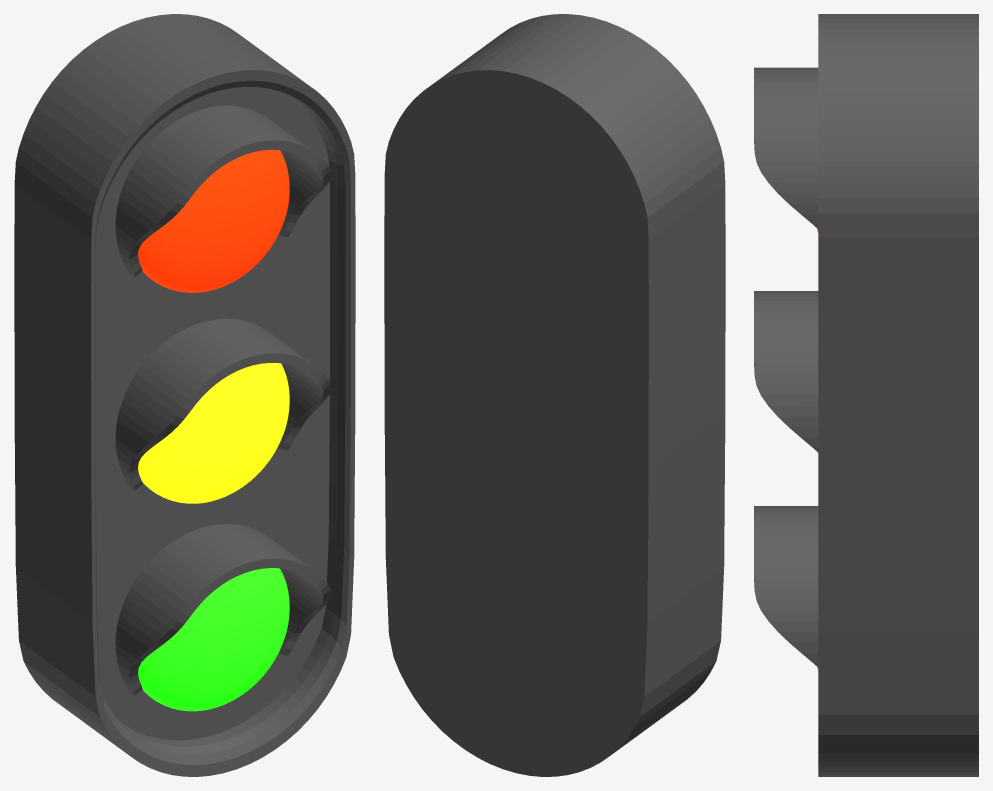
The model's file is Light.fbx.
The picture shows the model from 3 angles, left to right: view 1: azimuth 30°, elevation 25°; view 2: azimuth 150°, elevation 25°; view 3: azimuth 270°, elevation 25°; orthographic projection. The views are drawn at different scales.
Parts seen in each view (by area): view 1: Cylinder, Cylinder.002, Cylinder.003, Cylinder.001, Sphere.002, Sphere.001, Sphere; view 2: Cylinder; view 3: Cylinder, Cylinder.003, Cylinder.001, Cylinder.002.
Boxes of the visible parts, <box> form: Cylinder: <box>14,14,355,776</box>; Cylinder.002: <box>115,318,331,490</box>; Cylinder.003: <box>115,105,331,276</box>; Cylinder.001: <box>115,524,331,695</box>; Sphere.002: <box>138,568,289,711</box>; Sphere.001: <box>138,149,289,292</box>; Sphere: <box>138,363,289,503</box>; Cylinder: <box>384,14,725,776</box>; Cylinder: <box>818,14,978,776</box>; Cylinder.003: <box>754,67,818,228</box>; Cylinder.001: <box>754,506,818,667</box>; Cylinder.002: <box>754,291,818,452</box>.
Size of the model in its own units: 197 by 499 by 139.
